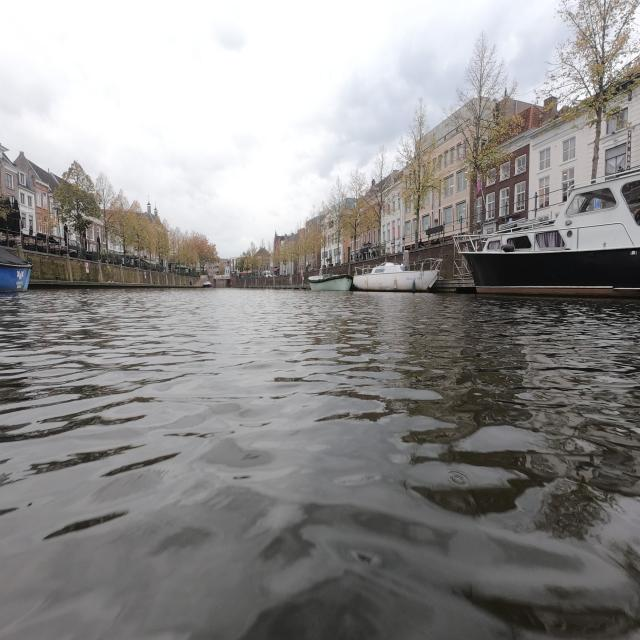boat: (460, 170, 640, 295), (309, 262, 439, 292), (0, 246, 32, 292)
sky: (0, 0, 565, 257)
water: (0, 289, 640, 640)
